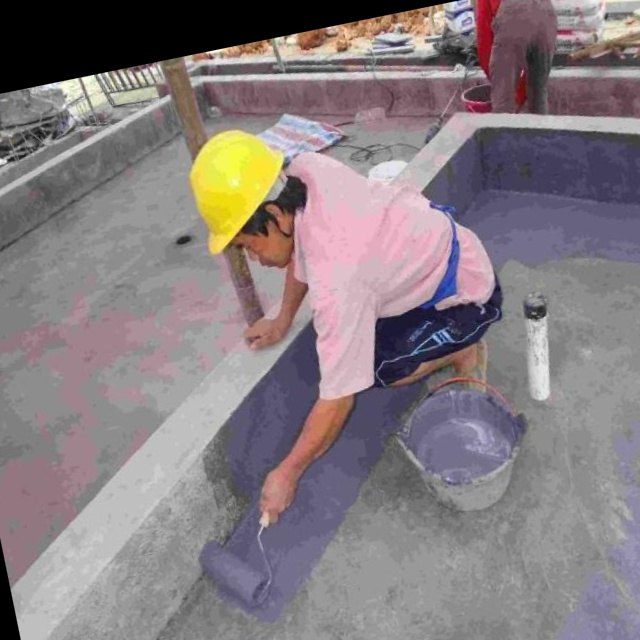Con_Casco: (185, 122, 303, 275)
